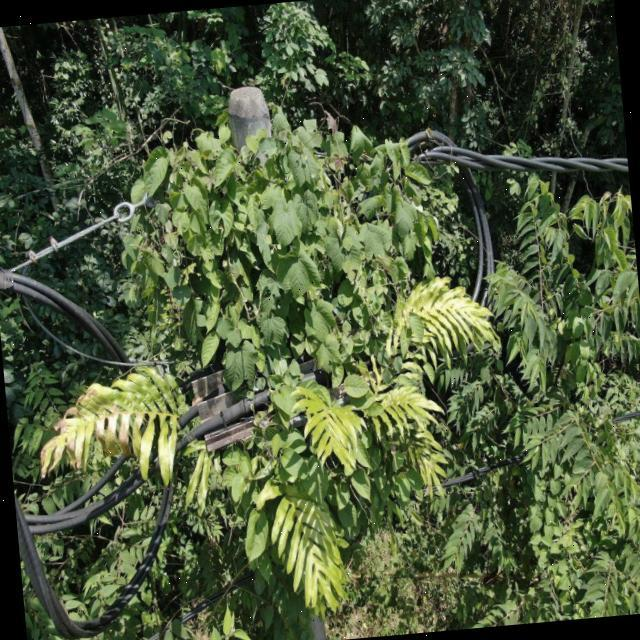critical vegetation: (103, 60, 476, 512)
